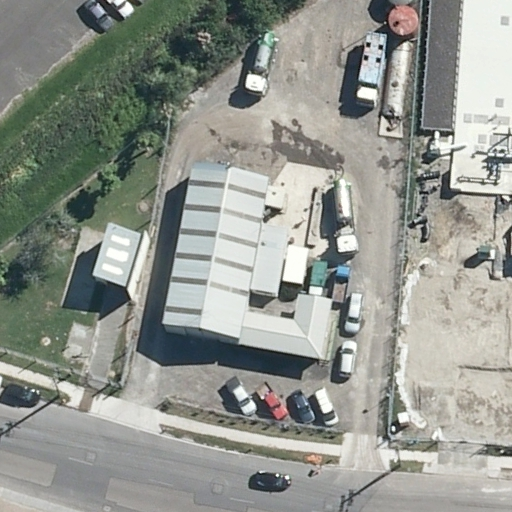DT: (43, 370, 70, 405), (385, 442, 409, 471)
